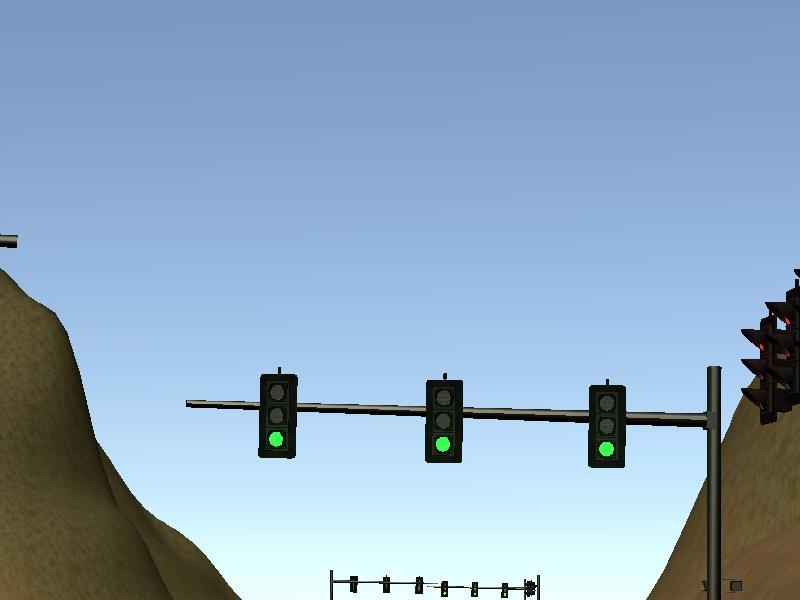green: (586, 386, 626, 469), (259, 374, 298, 457), (424, 379, 462, 464)
